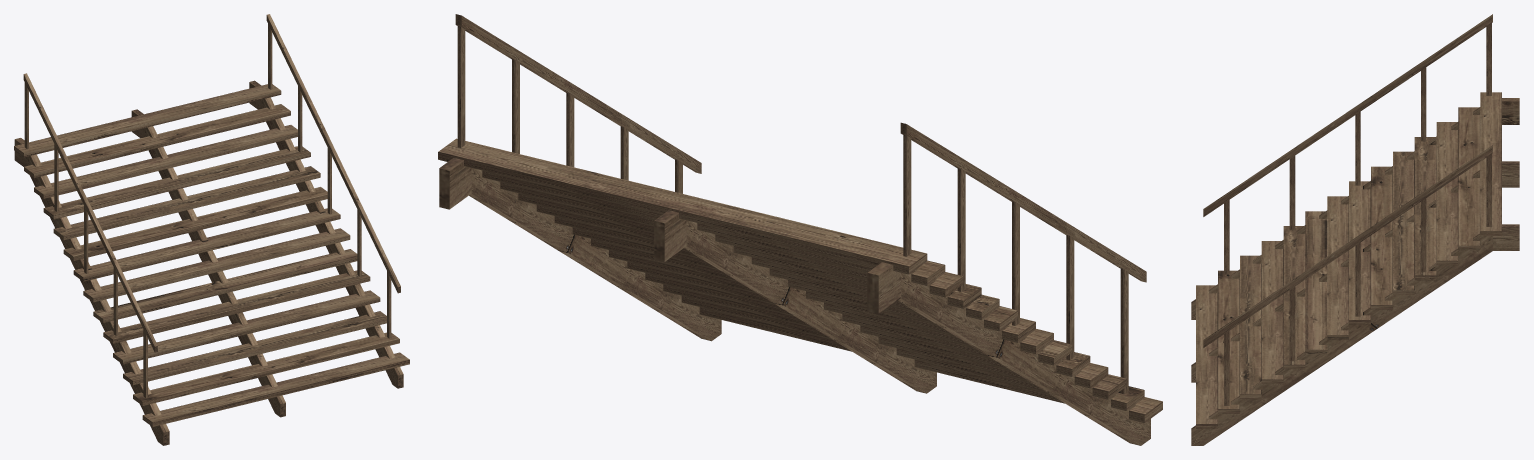
File: wideStaircaseBanister.dae
3 renders of one model, left to right at view 1: azimuth 30°, elevation 25°; view 2: azimuth 150°, elevation 25°; view 3: azimuth 270°, elevation 25°, orthographic. The views are drawn at different scales.
Parts seen in each view (by area): view 1: wideStaircaseBanister; view 2: wideStaircaseBanister; view 3: wideStaircaseBanister.
Part boxes in pixels (x1,y1,x2,y2): wideStaircaseBanister: [14, 14, 409, 445]; wideStaircaseBanister: [438, 14, 1162, 445]; wideStaircaseBanister: [1191, 14, 1519, 445].
Bounding box in the file's own units: 4 × 4.05 × 4.01.
Materials: 1 (1 with a texture image).
